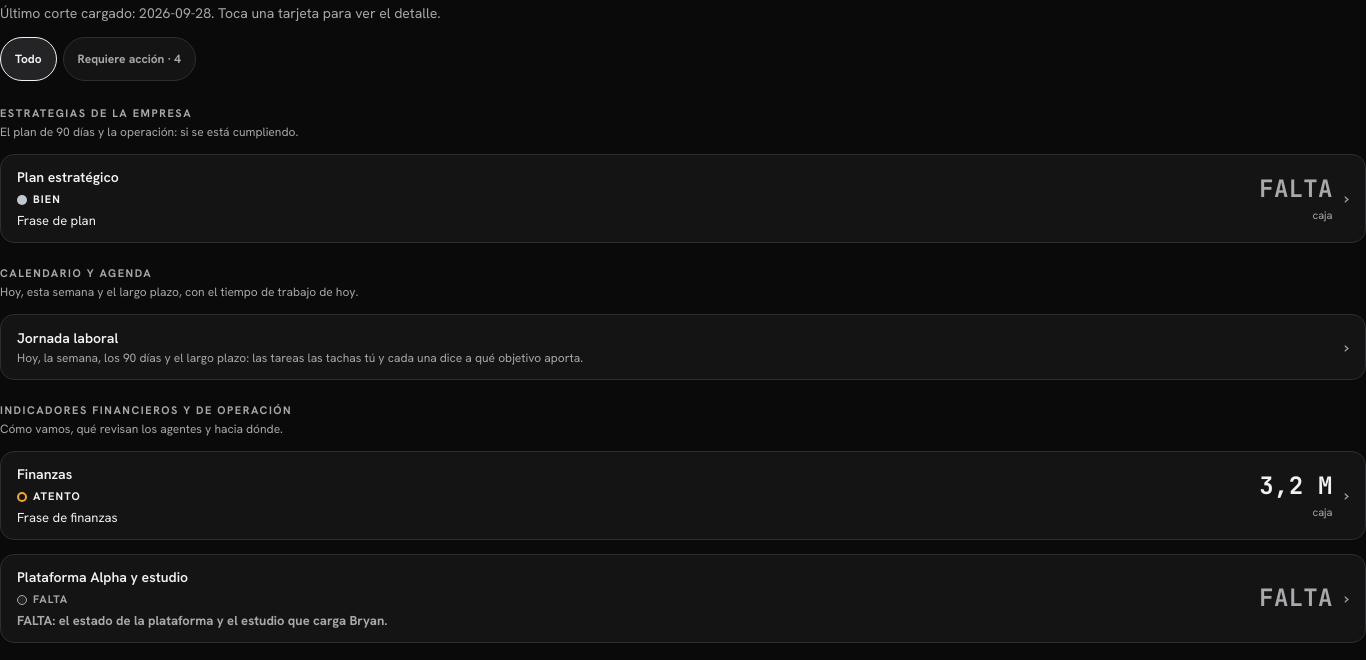
Test case: AdministracionPage · tablero de la migración 0102 › capa 2 al tocar la tarjeta y capa 3 al tocar una fila (fuente y qué hacer)
This screenshot has width=1366, height=660.
Expected: the text "Caja del mes" is not shown
Click the button "Finanzas Atento Frase de finanzas 3,2 M caja ›" at (45,474), box x1=1 y1=452 x2=1365 y2=539
(page scrolled)
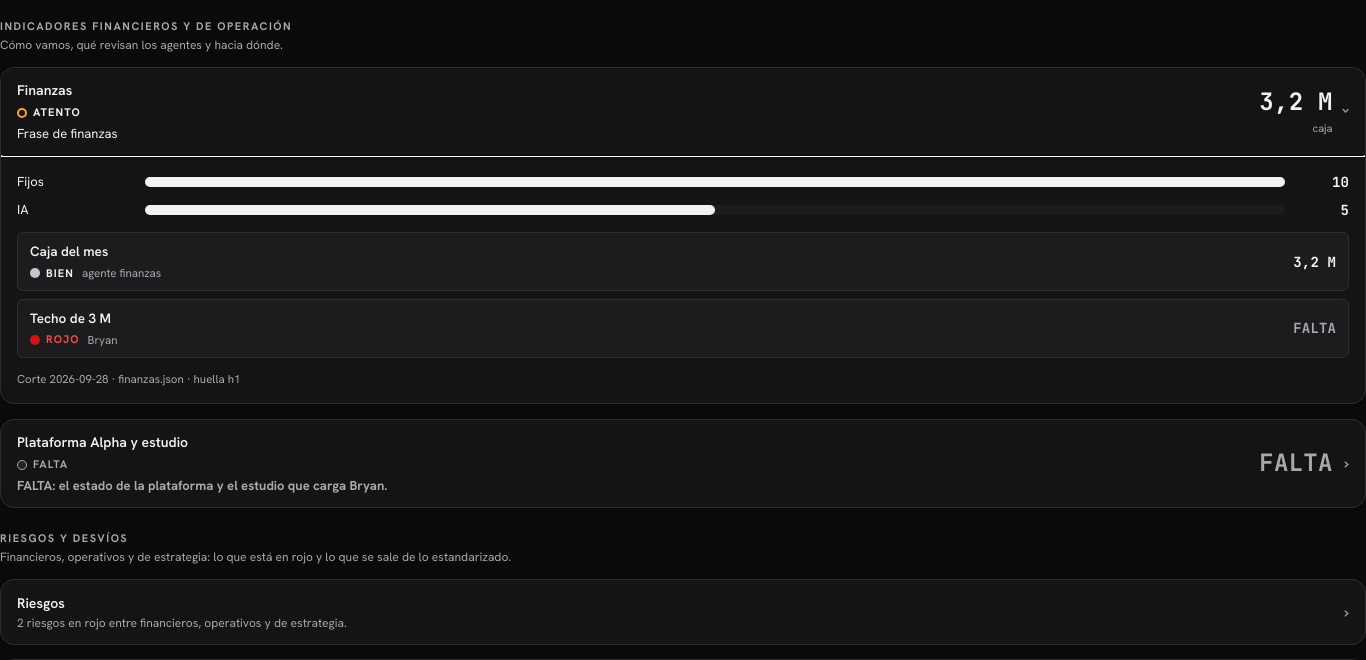
Expected: the text "Caja del mes" is shown, x1=30 y1=242 x2=108 y2=260
Expected: the list named "Barras" is shown, x1=17 y1=172 x2=1349 y2=220
Click the button "Techo de 3 M Rojo Bryan FALTA" at (71,318), box x1=18 y1=300 x2=1348 y2=357
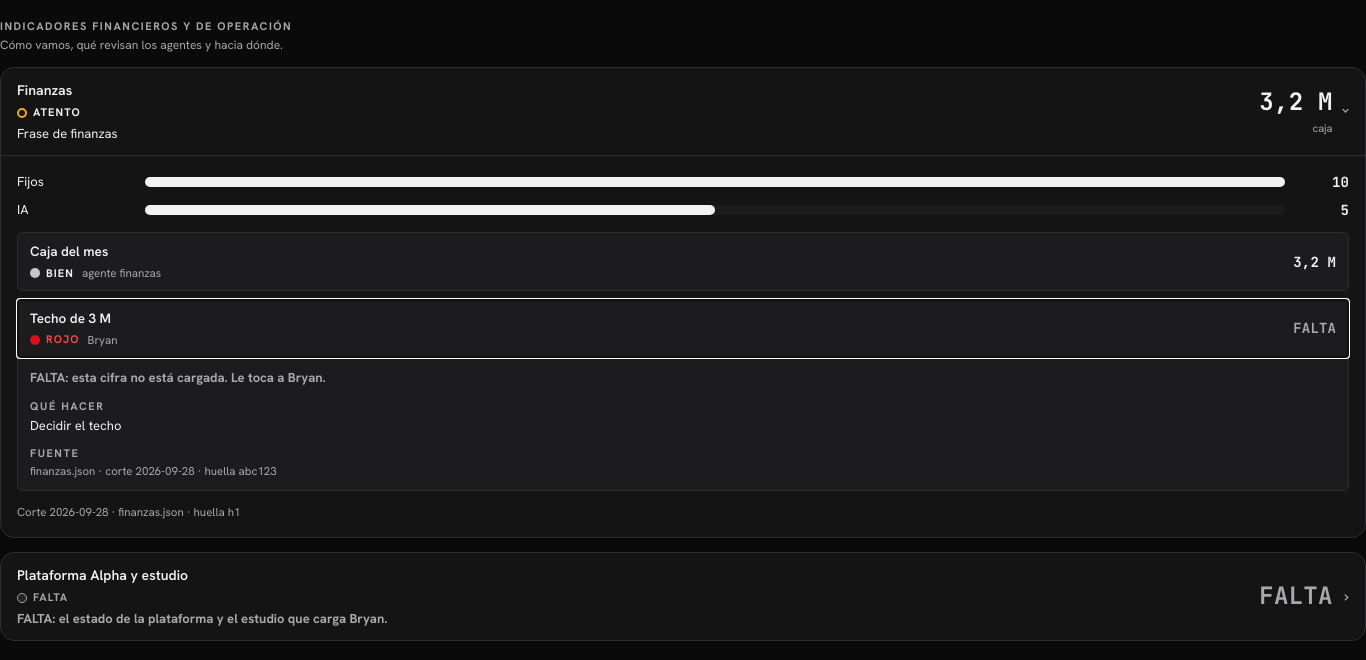
Expected: the text "Decidir el techo" is shown, x1=30 y1=417 x2=121 y2=434
Expected: the text "finanzas.json · corte 2026-09-28 · huella abc123" is shown, x1=30 y1=463 x2=277 y2=478
